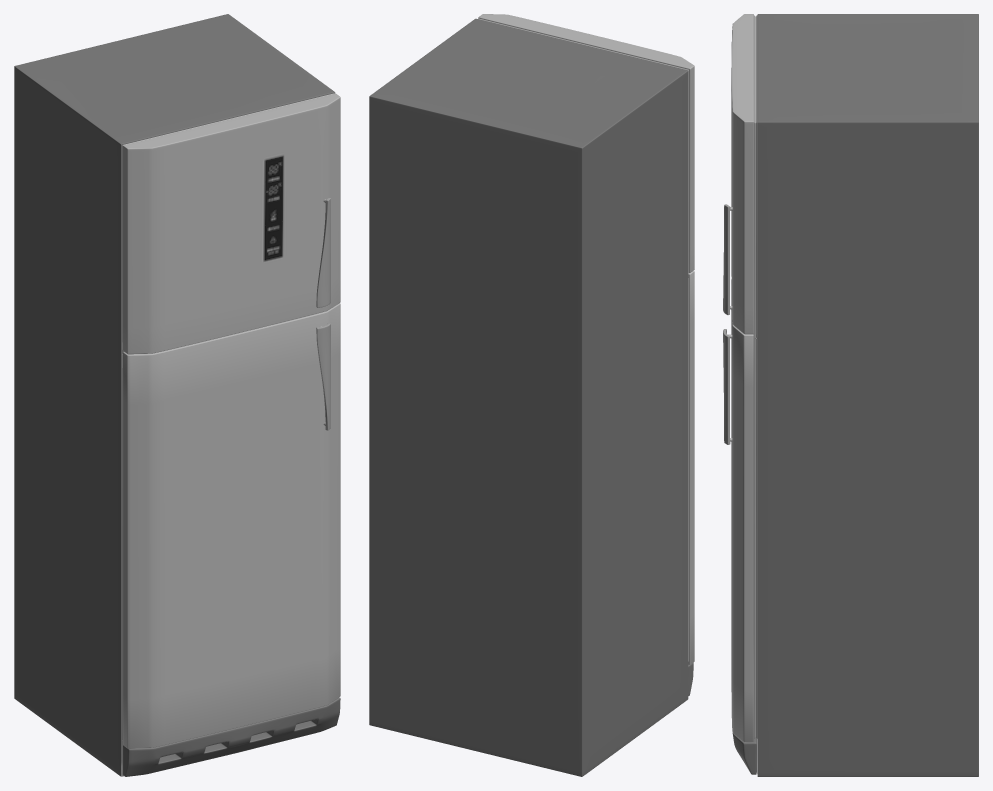
Rendered from visual_HighPoly_11_Fridge.dae.
The picture shows the model from 3 angles, left to right: view 1: azimuth 30°, elevation 25°; view 2: azimuth 150°, elevation 25°; view 3: azimuth 270°, elevation 25°; orthographic projection. The views are drawn at different scales.
Visible parts, largest first — view 1: SM_fridge_high; view 2: SM_fridge_high; view 3: SM_fridge_high.
Part boxes in pixels (left/top/right/bottom): SM_fridge_high: left=14, top=14, right=340, bottom=776; SM_fridge_high: left=369, top=14, right=694, bottom=776; SM_fridge_high: left=723, top=14, right=978, bottom=776.
Size of the model in its own units: 65.07 by 64.95 by 183.
Materials: 1 (1 with a texture image).
